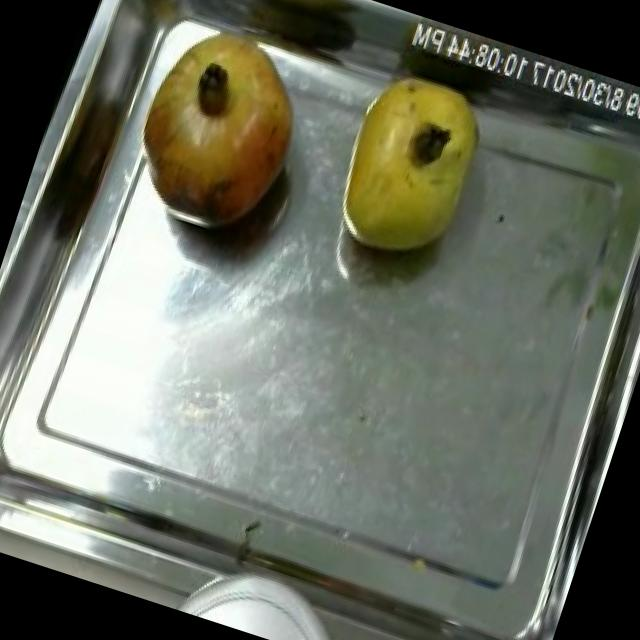fruit: (112, 5, 328, 257), (316, 56, 504, 280)
